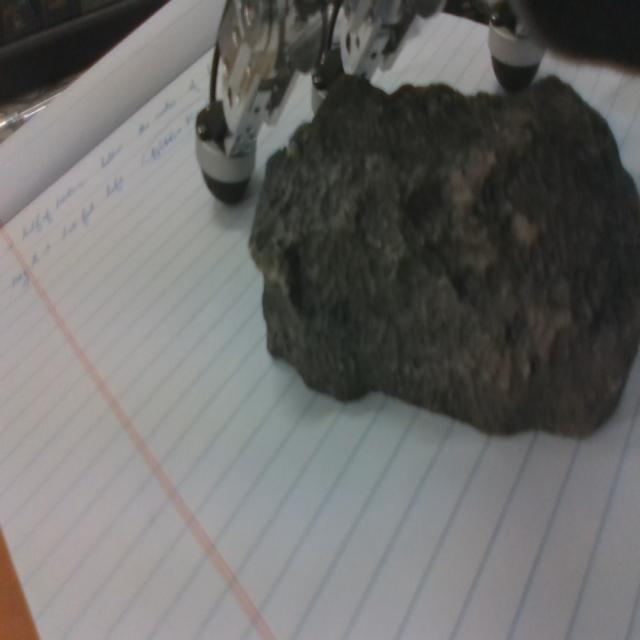stone: (247, 74, 640, 443)
